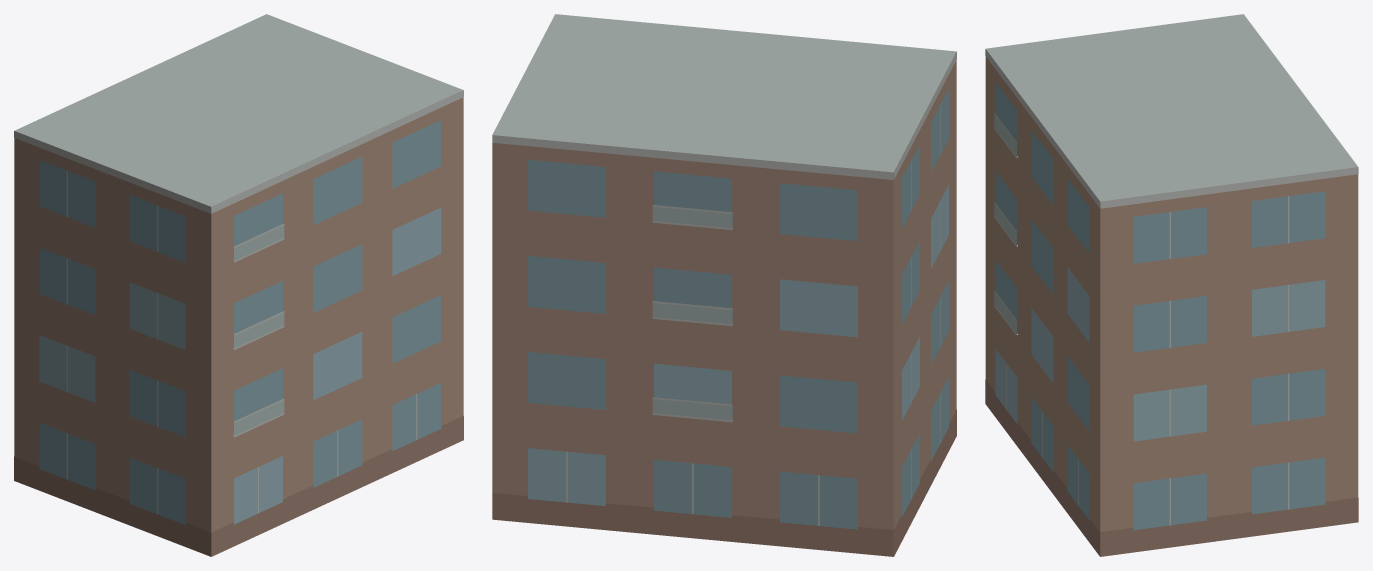
File: residential-bec9bff2-bcc3-4bf6-a663-9266c3bfe379.glb
3 views of the same model, side by side, from view 1: azimuth 30°, elevation 25°; view 2: azimuth 150°, elevation 25°; view 3: azimuth 270°, elevation 25° (orthographic). The views are drawn at different scales.
Visible parts, largest first — view 1: residential-bec9bff2-bcc3-4bf6-a663-9266c3bfe379.tmp; view 2: residential-bec9bff2-bcc3-4bf6-a663-9266c3bfe379.tmp; view 3: residential-bec9bff2-bcc3-4bf6-a663-9266c3bfe379.tmp.
Boxes of the visible parts, x1=… form: residential-bec9bff2-bcc3-4bf6-a663-9266c3bfe379.tmp: x1=14, y1=14, x2=463, y2=556; residential-bec9bff2-bcc3-4bf6-a663-9266c3bfe379.tmp: x1=492, y1=14, x2=956, y2=556; residential-bec9bff2-bcc3-4bf6-a663-9266c3bfe379.tmp: x1=985, y1=14, x2=1358, y2=556.
Size of the model in its own units: 13.83 by 12.2 by 11.62.
